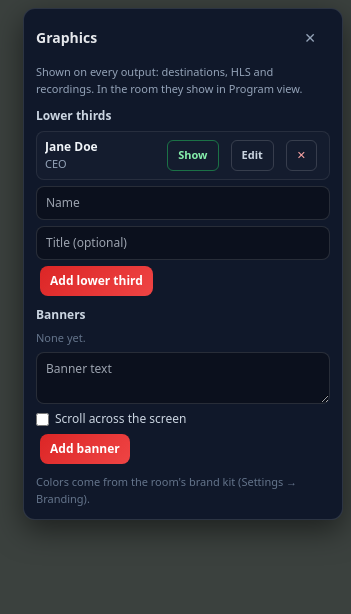
GraphicsPanel › does not show a change the plan rejected
Click the button "Show". click: (193, 155)
box: x1=167 y1=140 x2=218 y2=170
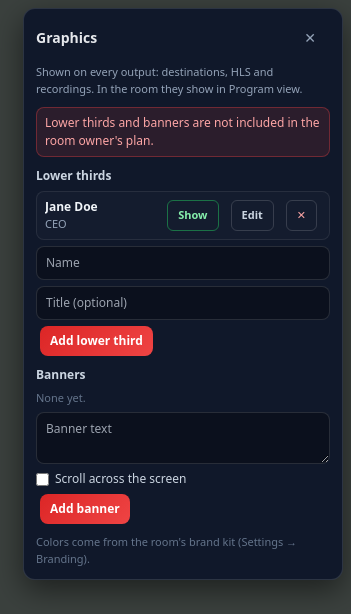
Expected: the button "Show" is shown, x1=167 y1=200 x2=218 y2=230
Now the text "not included in the room owner's plan" is shown, box x1=45 y1=114 x2=320 y2=149
